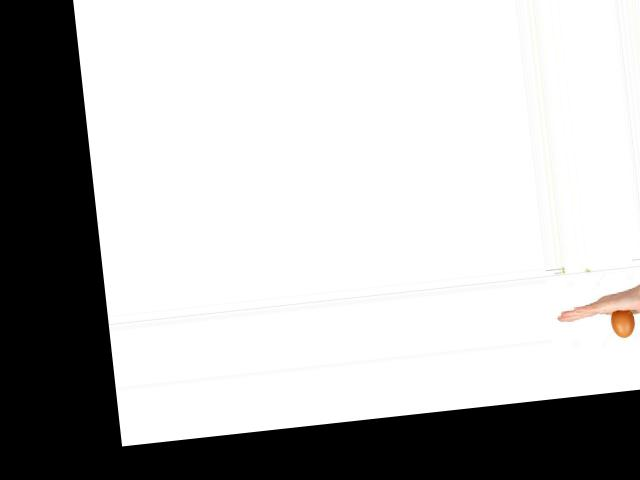egg: (609, 308, 635, 338)
